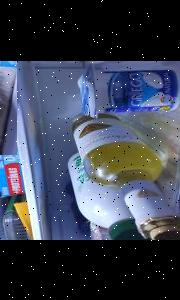Leche: (66, 150, 150, 240)
Pan de sandwich: (0, 60, 38, 154)
Yogur: (76, 60, 180, 117)
